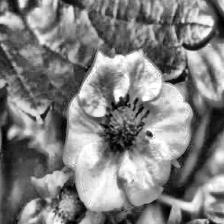Blossom Blight: (94, 91, 154, 160)
